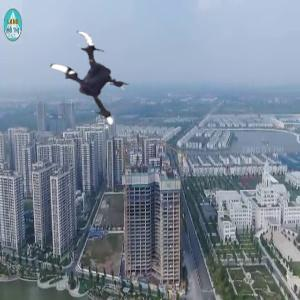drone: (35, 29, 139, 133)
